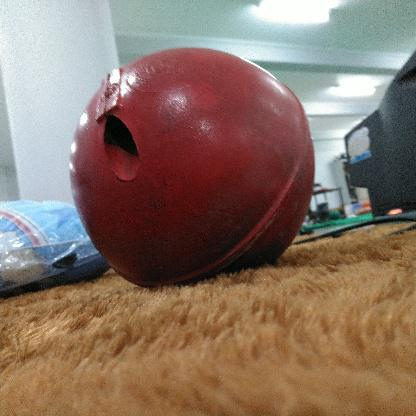red_buoy: (64, 42, 317, 283)
